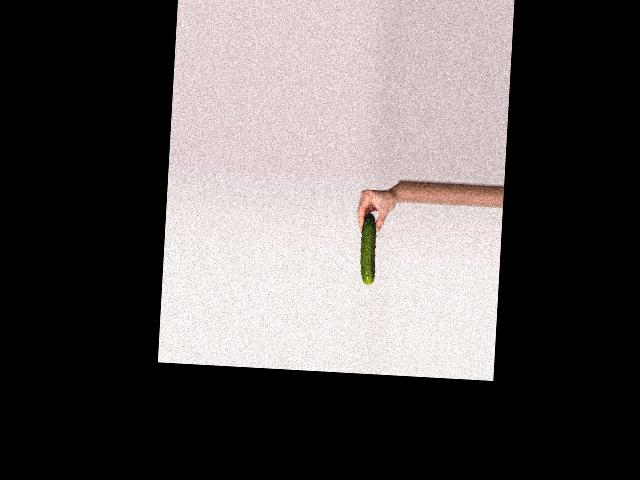cucumber: (359, 212, 377, 284)
